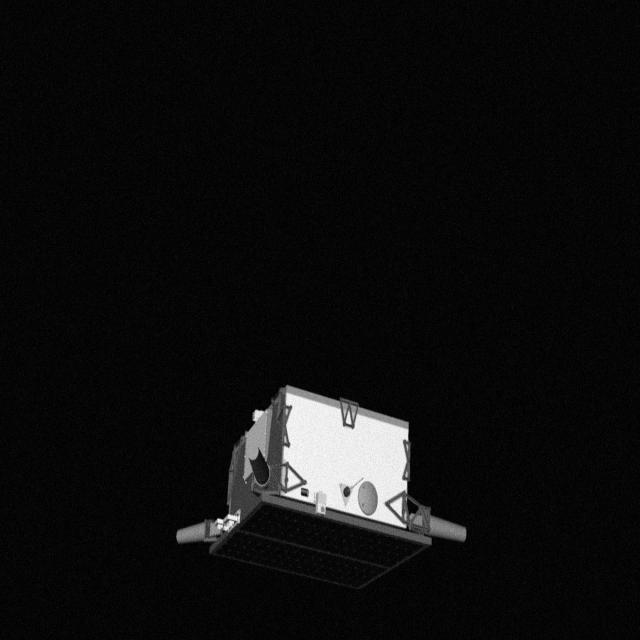satellite: (170, 376, 480, 600)
